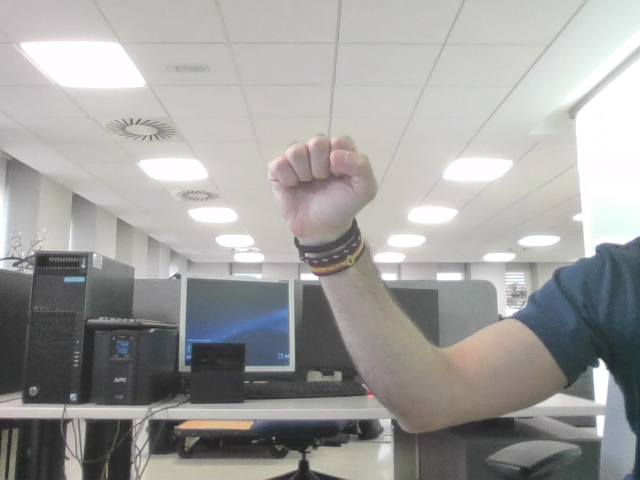Puño: (283, 143, 360, 214)
